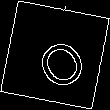O_NW: (23, 21, 87, 89)
